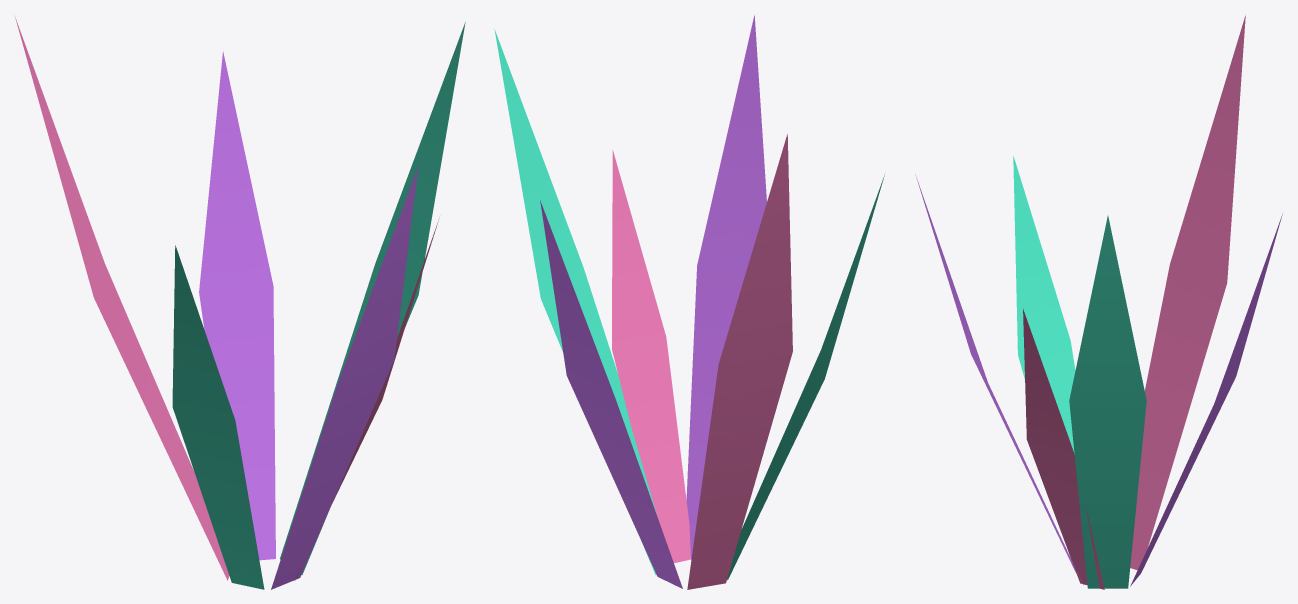
The model's file is alien-grass-bloom.glb.
The picture shows the model from 3 angles, left to right: view 1: azimuth 30°, elevation 25°; view 2: azimuth 150°, elevation 25°; view 3: azimuth 270°, elevation 25°; orthographic projection. The views are drawn at different scales.
Parts seen in each view (by area): view 1: AlienGrassBloom; view 2: AlienGrassBloom; view 3: AlienGrassBloom.
Boxes of the visible parts, bbox=[...] form: AlienGrassBloom: bbox=[15, 17, 465, 589]; AlienGrassBloom: bbox=[494, 15, 884, 589]; AlienGrassBloom: bbox=[915, 15, 1282, 589].
Size of the model in its own units: 0.1595 by 0.222 by 0.1524.
